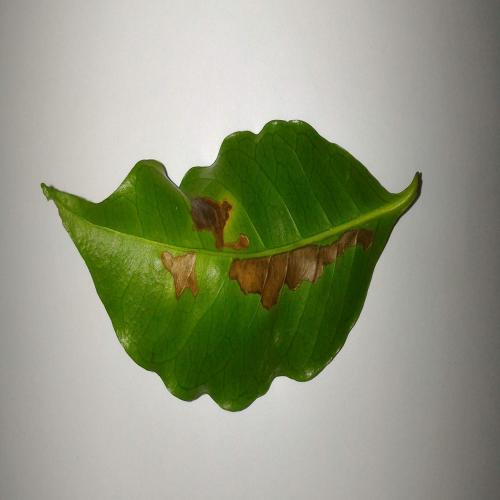leaf: (190, 197, 249, 251)
